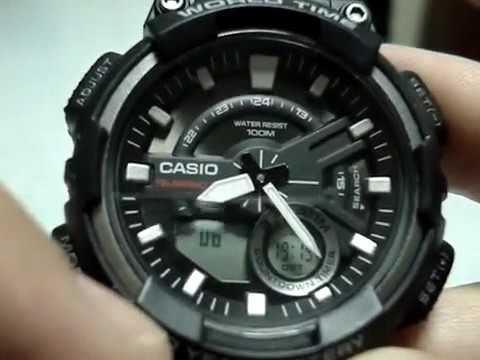clock: (63, 1, 457, 359)
